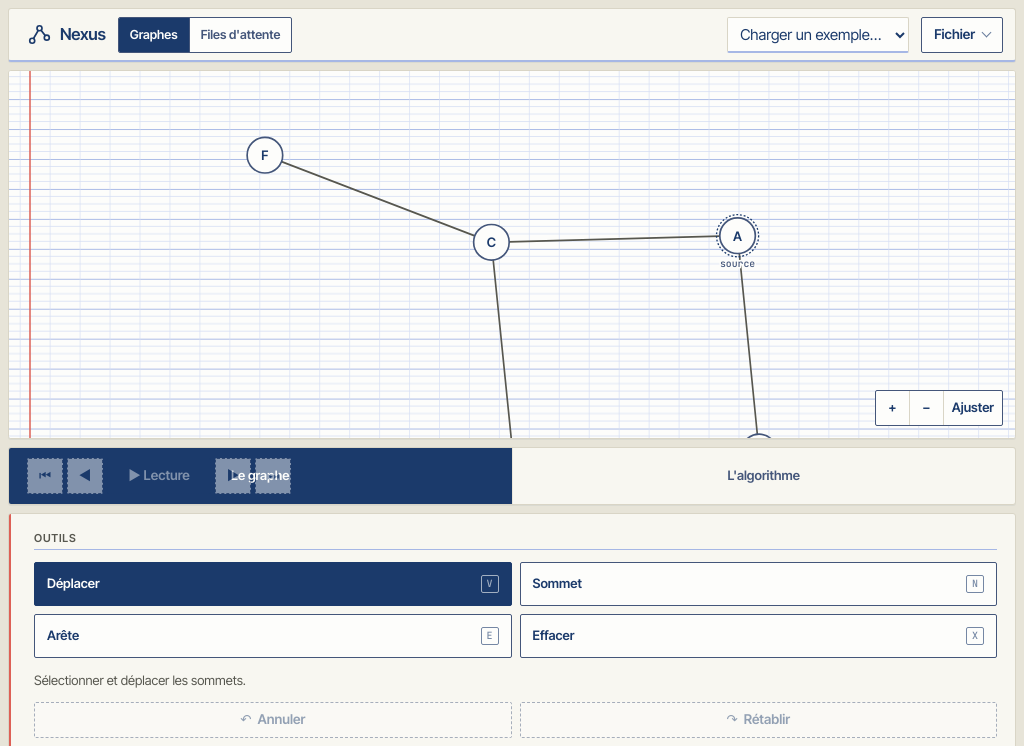
Test case: le bandeau reste sobre › se réduit encore sur l'atelier des files
This screenshot has width=1024, height=746.
Click the button "Files d'attente".
click(240, 34)  # box [190,18,291,52]
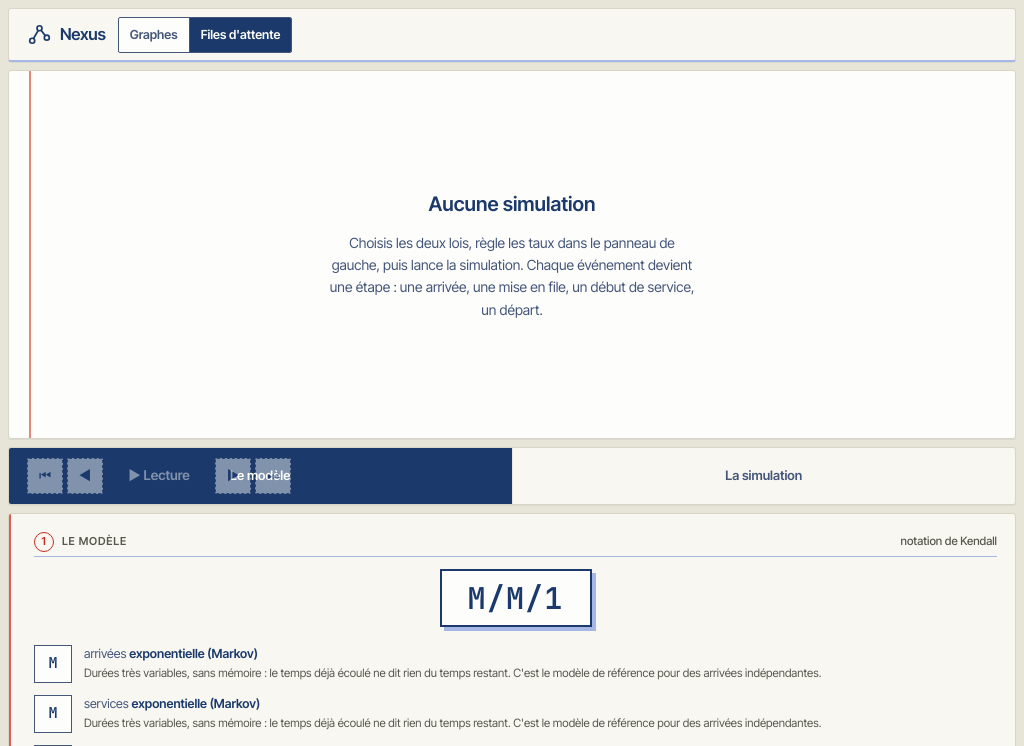
Now the button "Fichier" is gone
